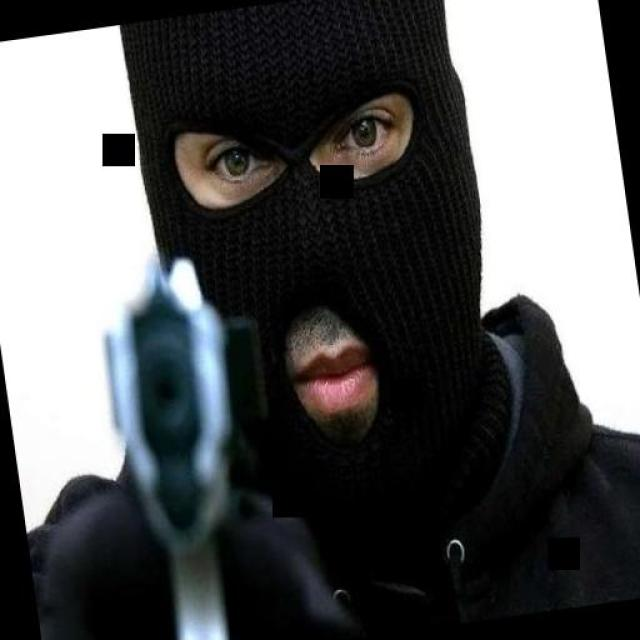gun: (96, 237, 263, 640)
